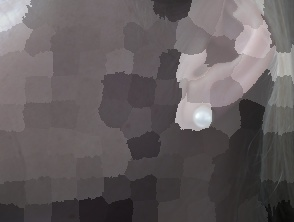vitiligo: (15, 0, 277, 222)
